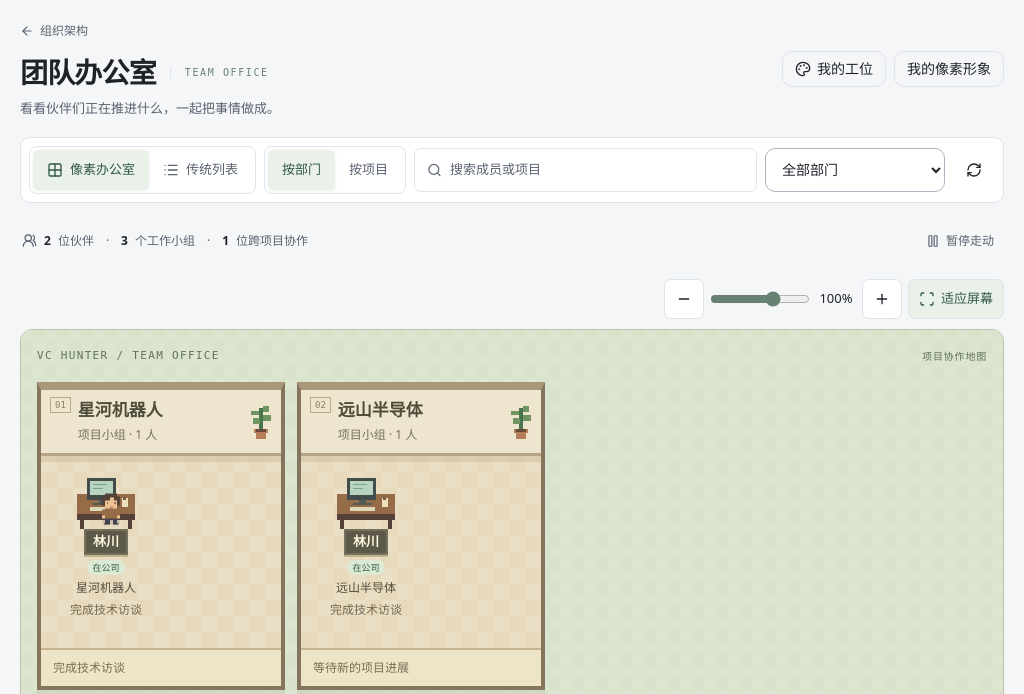
Scenario: team office › filters members by project search and department without inventing group memberships
Type "远山" into the search field labelled "搜索成员或项目" at (597, 170), box left=450, top=160, right=744, bottom=180
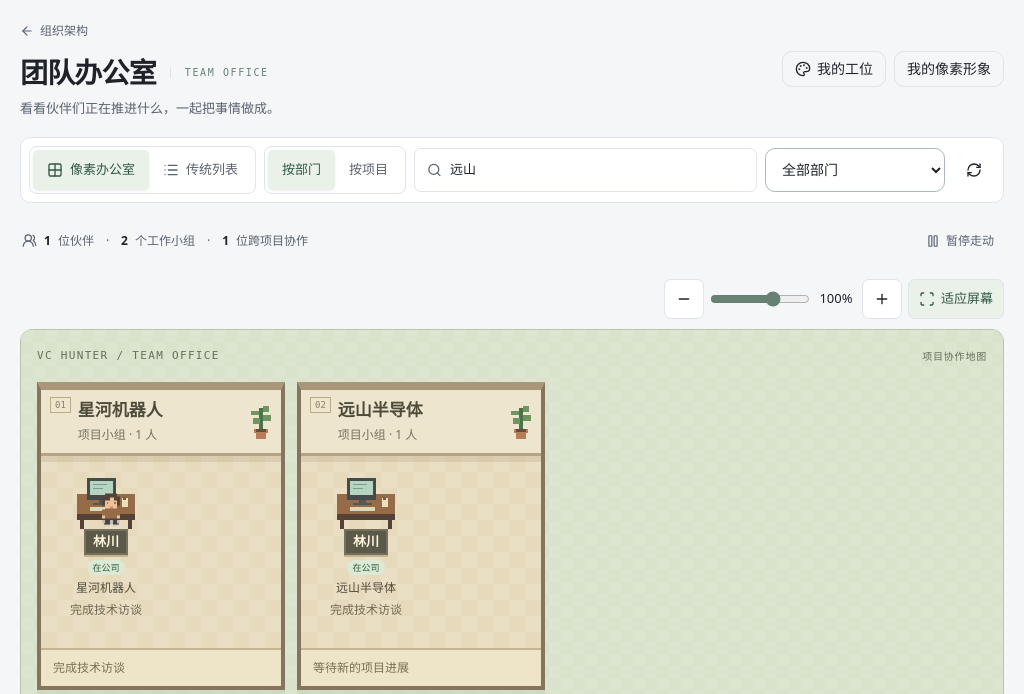
Check: the button with aria-label "查看林川的工作 · 远山半导体" is shown, box left=317, top=472, right=415, bottom=623
Clear the search field at (597, 170), box left=450, top=160, right=744, bottom=180
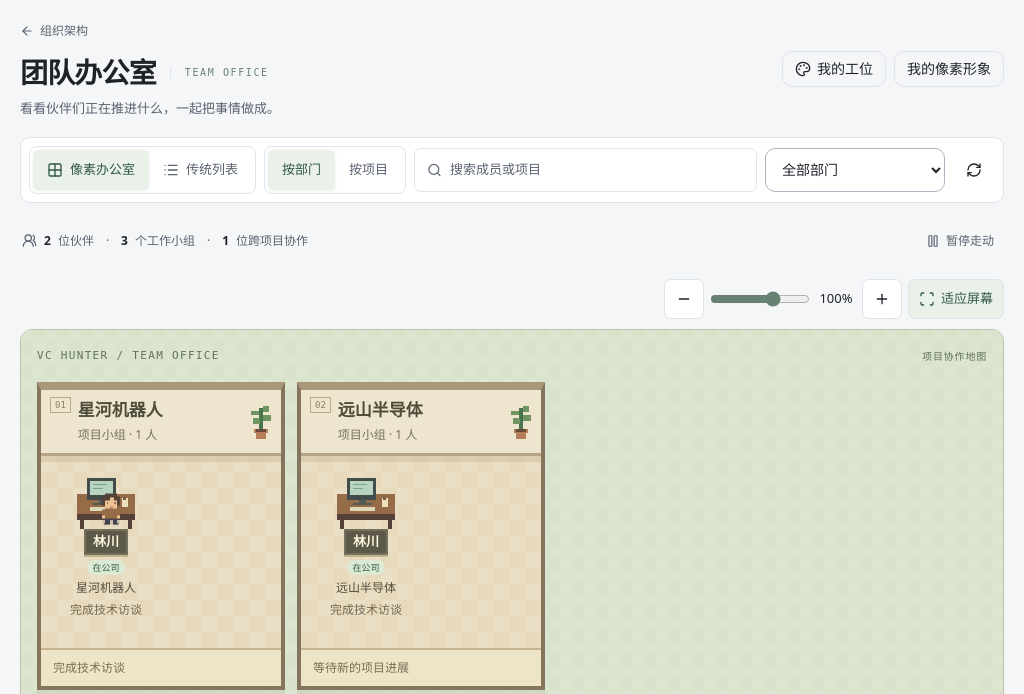
Select "财务部" in the dropdown named "办公室部门筛选" at (855, 170), box left=765, top=148, right=945, bottom=192
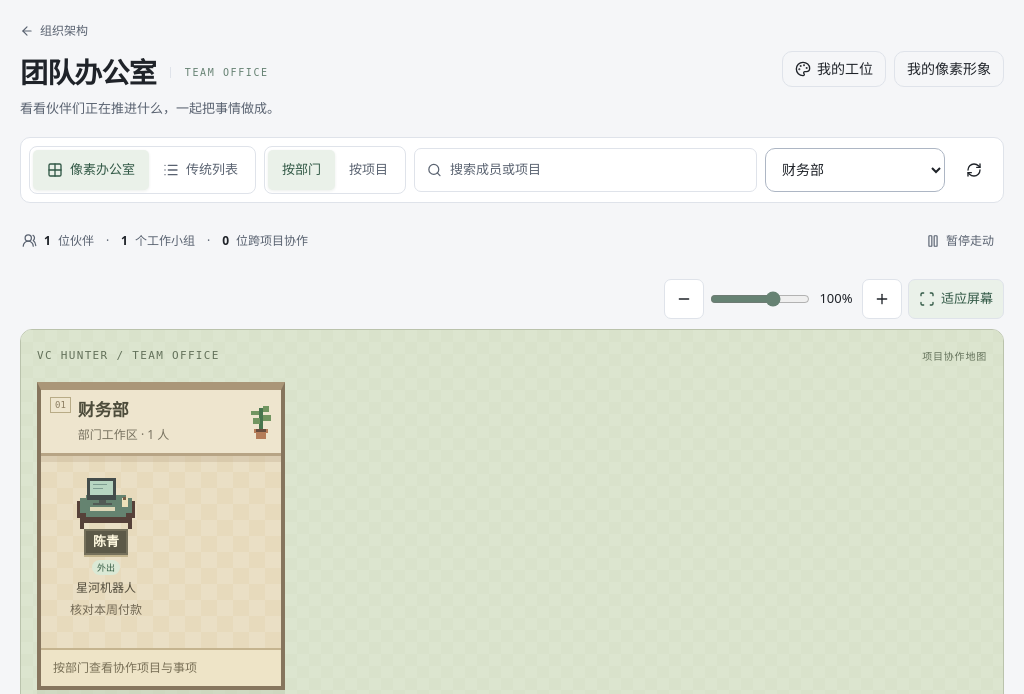
Click the button "传统列表" at (200, 170), box left=149, top=150, right=252, bottom=190
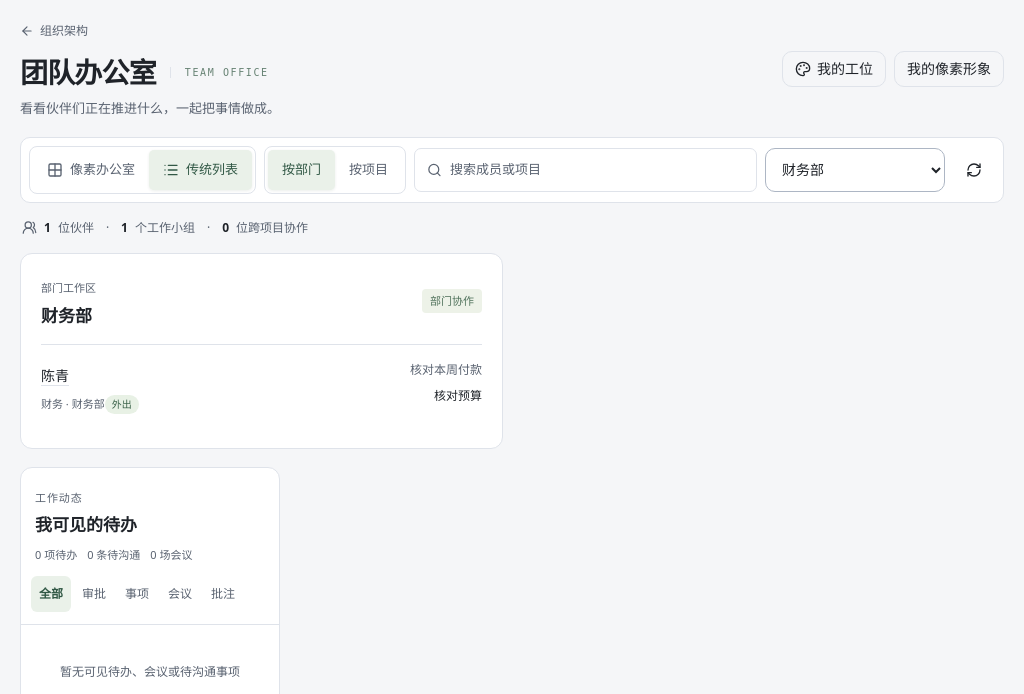
Check: the text "核对预算" is shown, box left=434, top=387, right=482, bottom=404
Type "无此成员" into the search field at (597, 170), box left=450, top=160, right=744, bottom=180
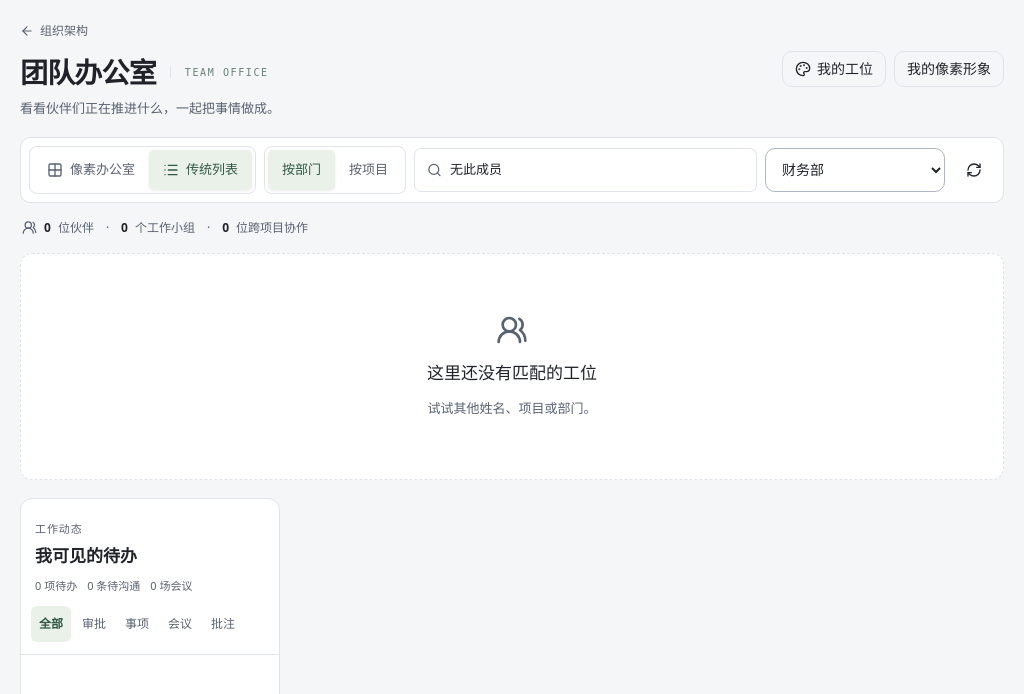
Check: the heading "这里还没有匹配的工位" is shown, box left=427, top=360, right=597, bottom=385
